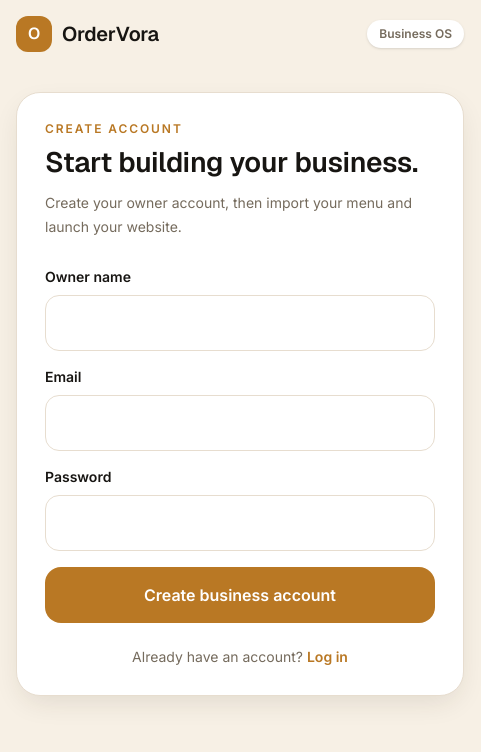
Test case: RegisterPage — §17: a client-side timeout must not report failure for a signup that actually succeeded › shows a deterministic pending message when timeout reconciliation still isn't ready
Type "Joe Smith" into the field labelled "Owner name" at point(240, 323), box [45,295,435,351]
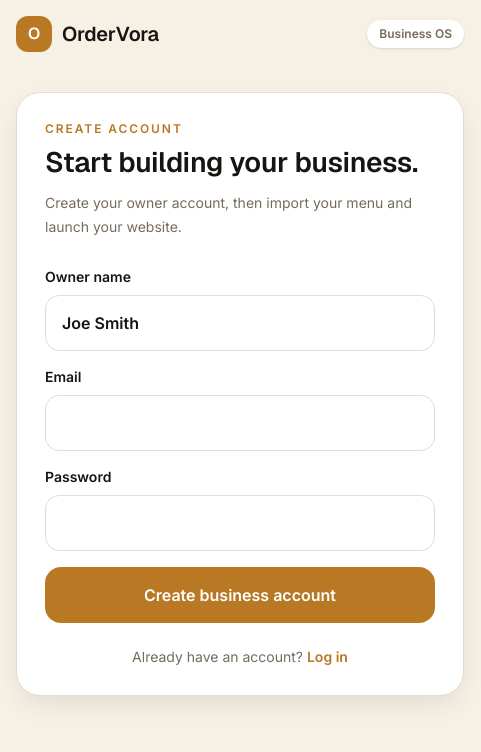
Type "joe@example.com" into the field labelled "Email" at point(240, 423), box [45,395,435,451]
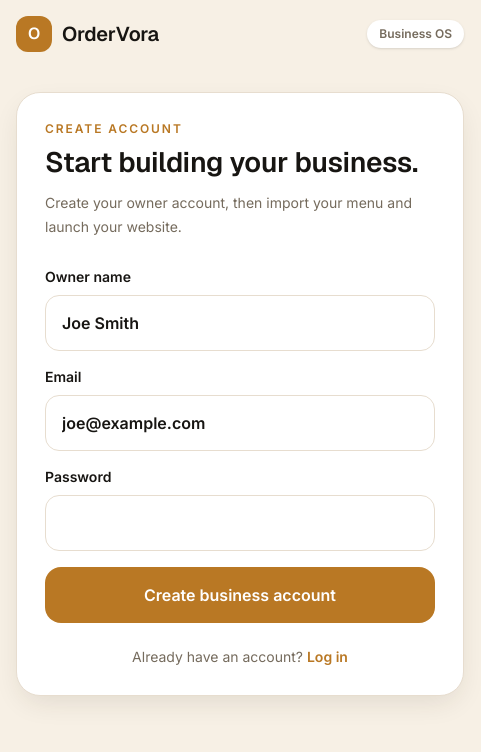
Type "hunter222" into the password field labelled "Password" at point(240, 523), box [45,495,435,551]
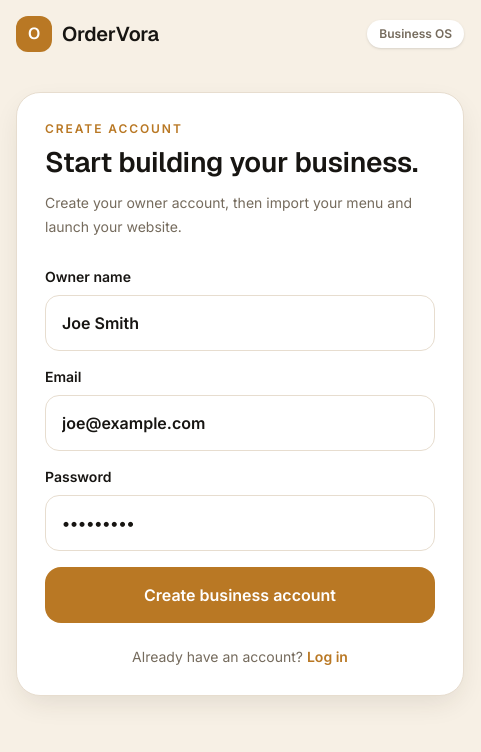
Click the button "Create business account" at point(240, 595), box [45,567,435,623]
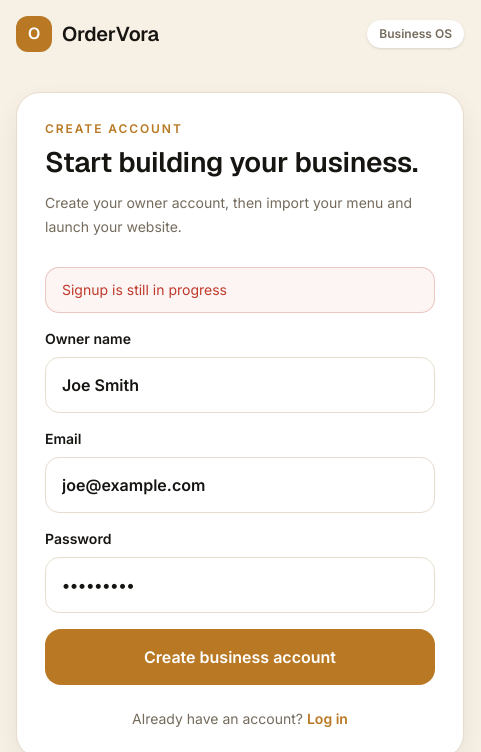
Now the text "Signup is still in progress" is shown, box [45,267,435,313]
